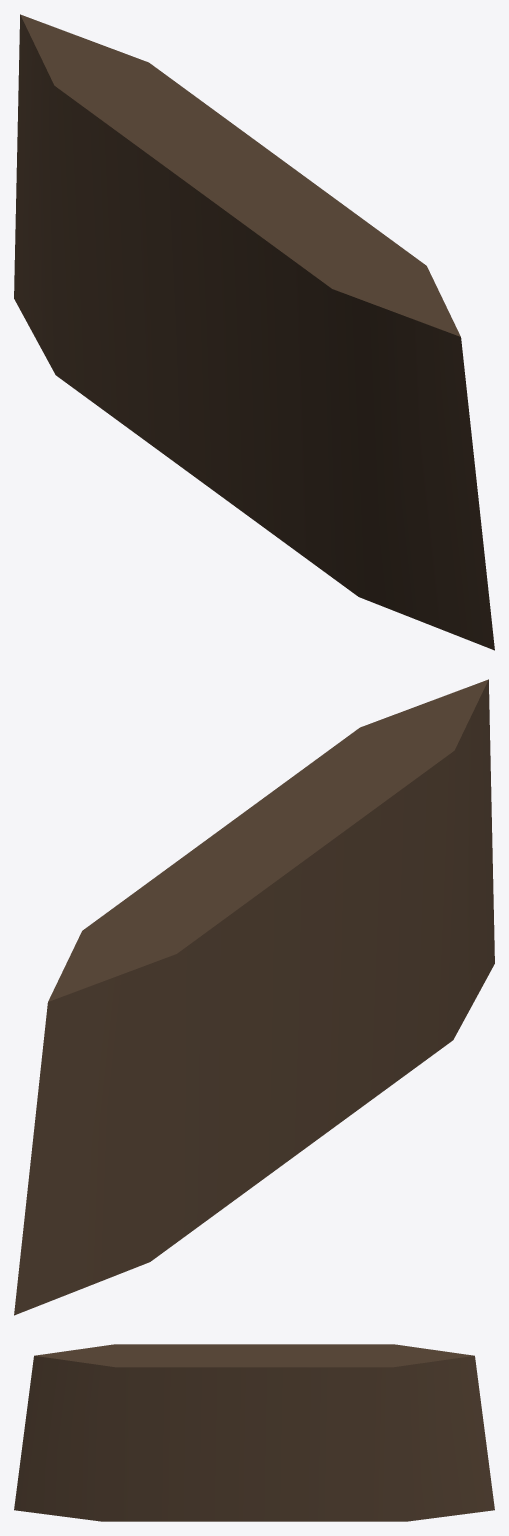
File: backrest_lod2.glb
The picture shows the model from 3 angles, top to bottom: view 1: azimuth 30°, elevation 25°; view 2: azimuth 150°, elevation 25°; view 3: azimuth 270°, elevation 25°; orthographic projection. The views are drawn at different scales.
Visible parts, largest first — view 1: backrest_lod2; view 2: backrest_lod2; view 3: backrest_lod2.
Part boxes in pixels (box(x1,y1,x2,y2)): backrest_lod2: box(14, 14, 494, 650); backrest_lod2: box(14, 679, 494, 1315); backrest_lod2: box(14, 1344, 494, 1521).
Bounding box in the file's own units: 0.0313 × 0.0832 × 0.24.
